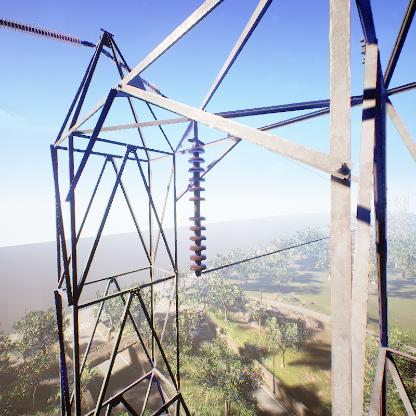insulator: (185, 145, 208, 272)
